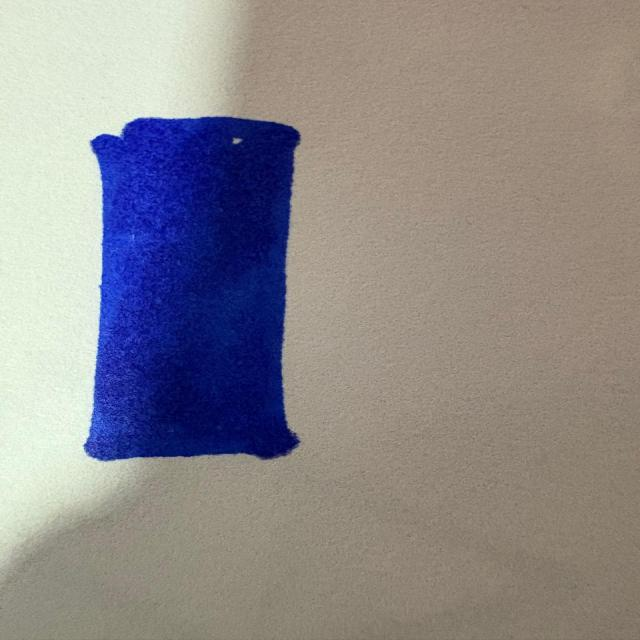Rectangle: (70, 106, 320, 476)
